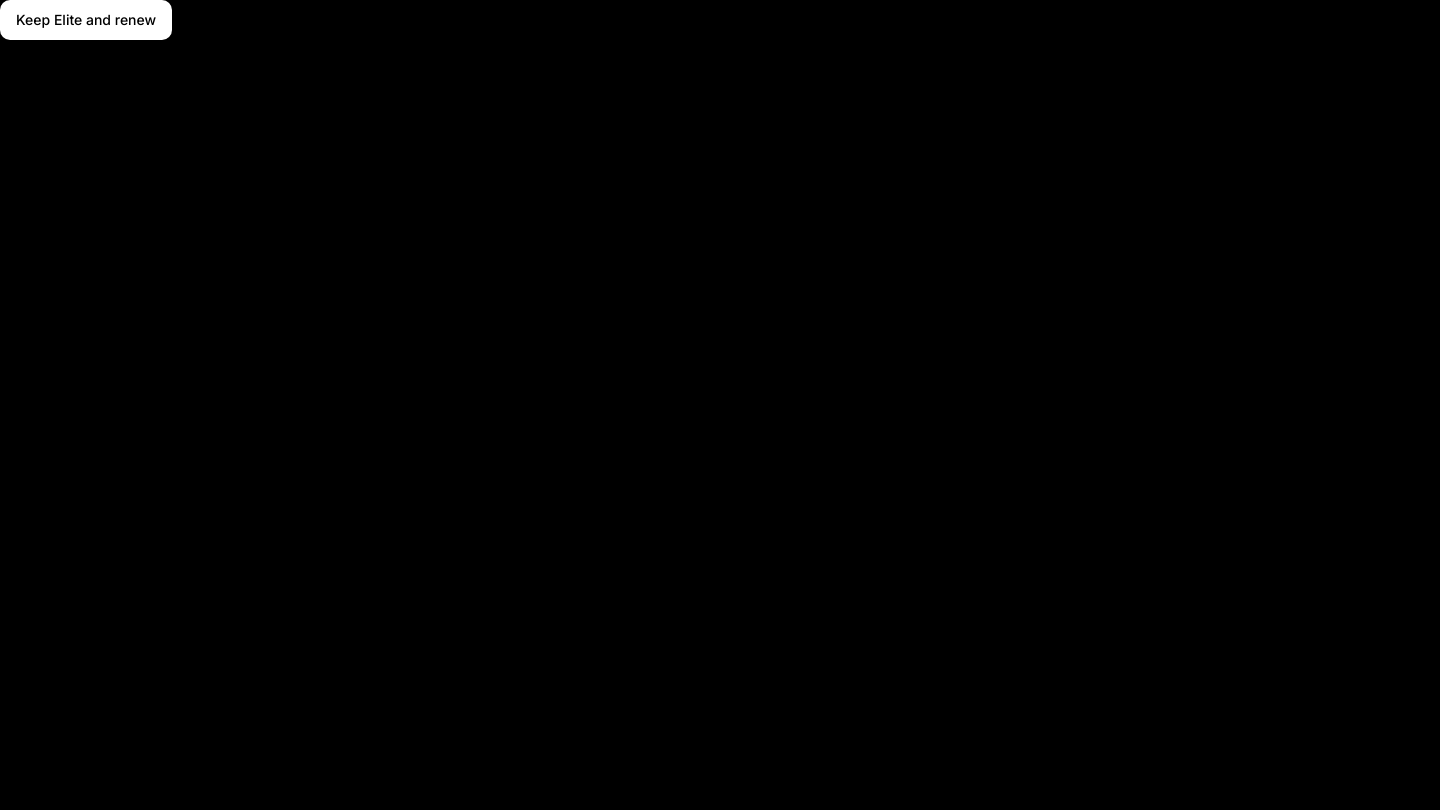
Scenario: RenewEliteDialog › opens read-only with exact disclosure and initial focus on Not now
The width and height of the screenshot is (1440, 810).
Click the button "Keep Elite and renew": (86, 20) [0, 0, 172, 40]
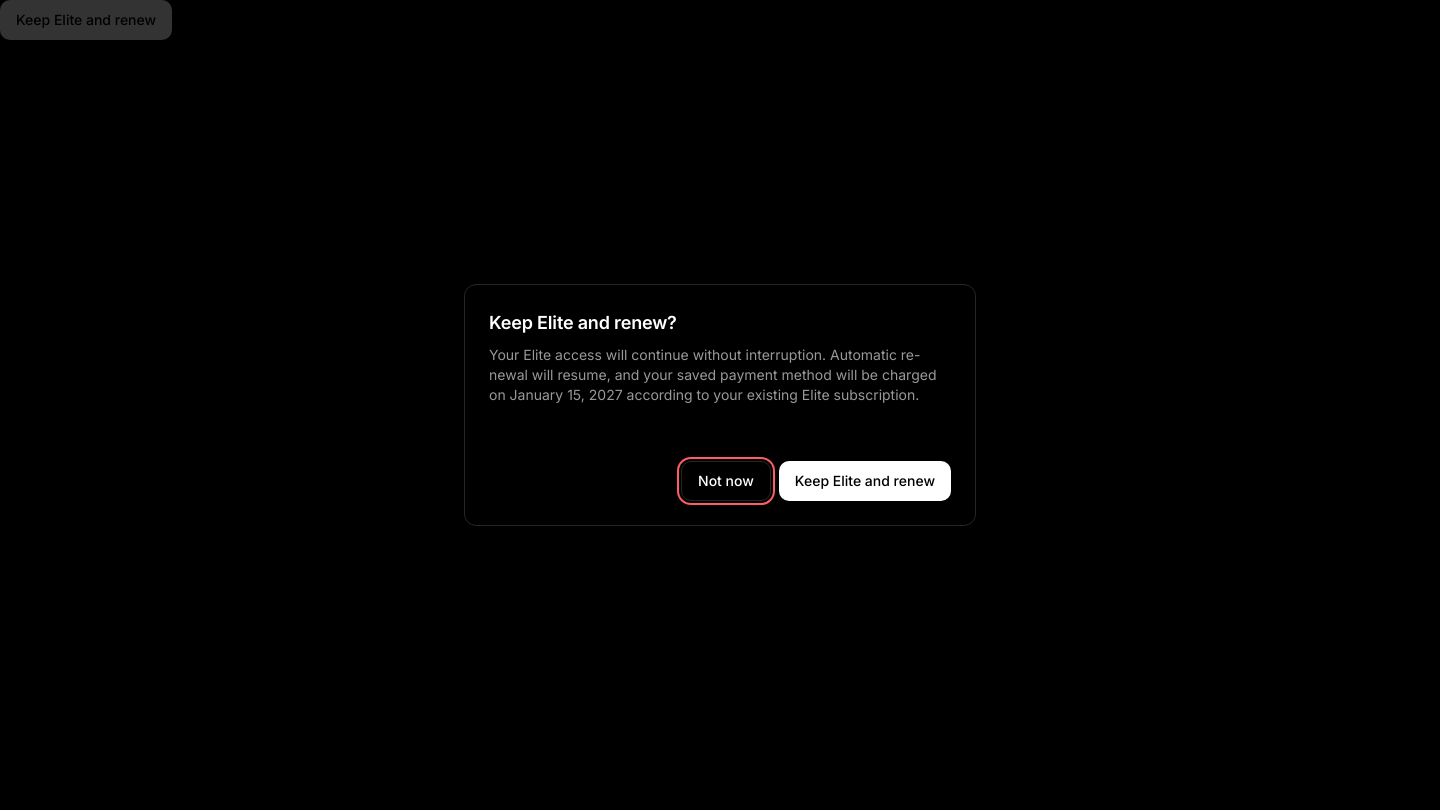
Now the text "continue without interruption" is shown, box [489, 346, 936, 403]
